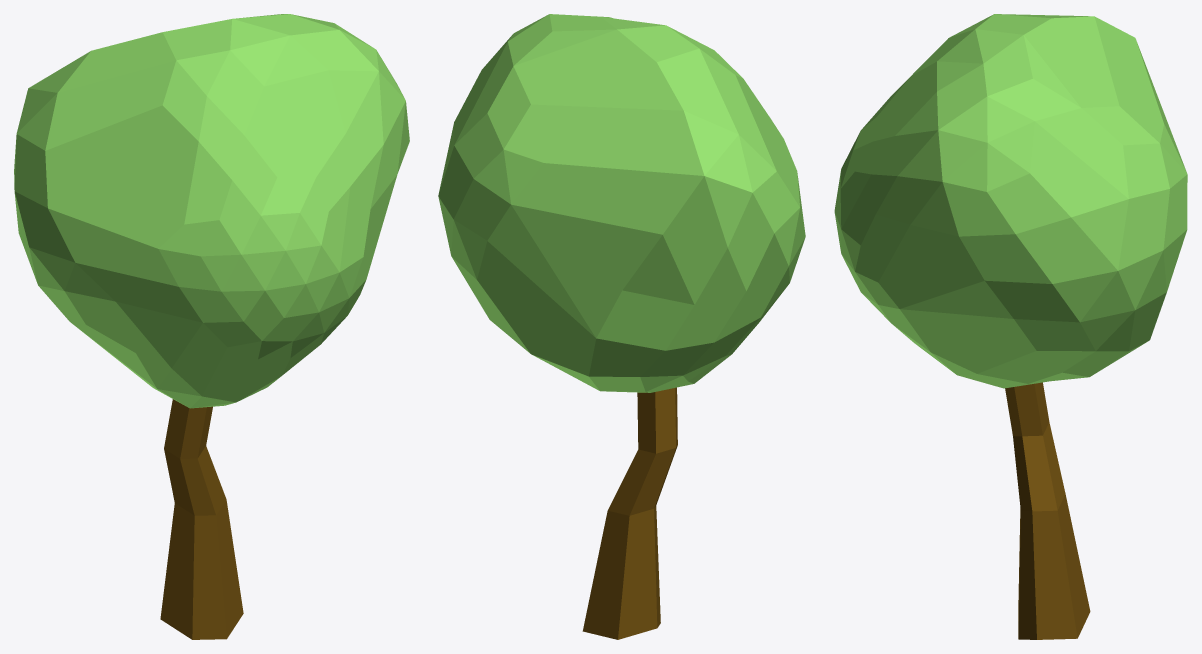
Rendered from treeA.fbx.
3 views of the same model, side by side, from view 1: azimuth 30°, elevation 25°; view 2: azimuth 150°, elevation 25°; view 3: azimuth 270°, elevation 25° (orthographic). The views are drawn at different scales.
Parts seen in each view (by area): view 1: Tree A; view 2: Tree A; view 3: Tree A.
Part boxes in pixels (<box>): Tree A: <box>14,14,409,639</box>; Tree A: <box>438,14,805,639</box>; Tree A: <box>834,14,1187,639</box>.
Size of the model in its own units: 431 by 732 by 385.
